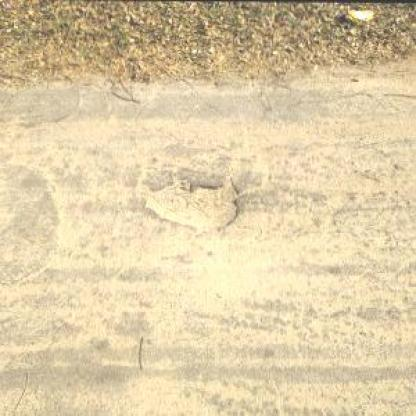pothole: (141, 174, 244, 230)
